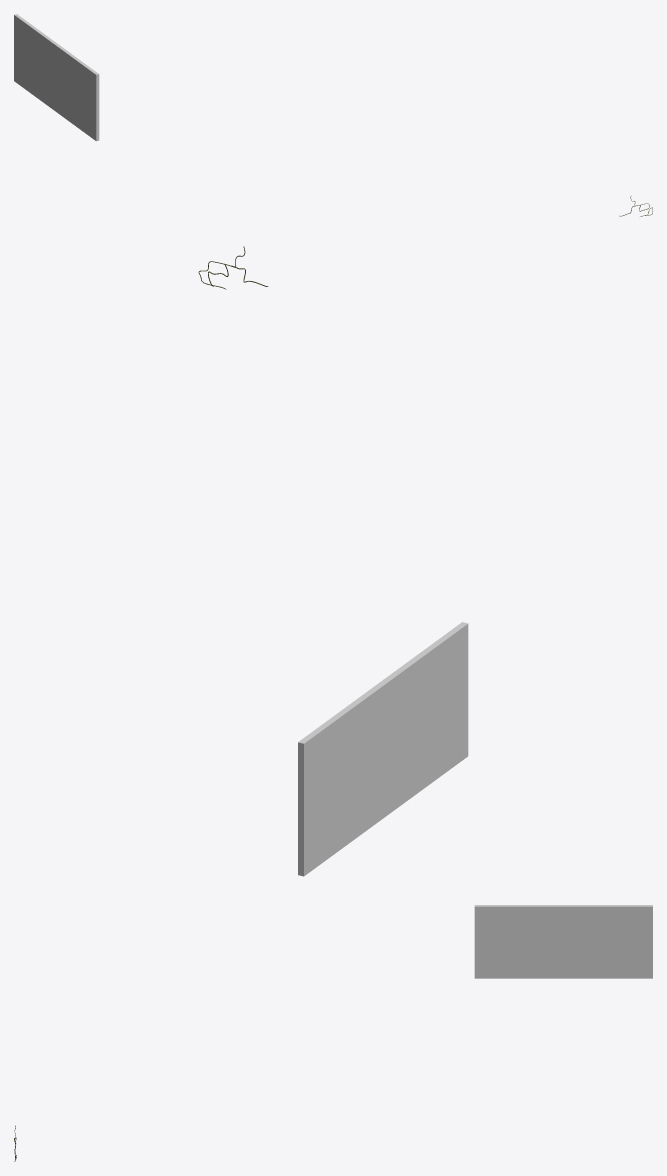
The model's file is vines.fbx.
The picture shows the model from 3 angles, top to bottom: view 1: azimuth 30°, elevation 25°; view 2: azimuth 150°, elevation 25°; view 3: azimuth 270°, elevation 25°; orthographic projection. The views are drawn at different scales.
Parts seen in each view (by area): view 1: Cube.1651; view 2: Cube.1651; view 3: Cube.1651.
Boxes of the visible parts, <box> form: Cube.1651: <box>14,14,99,141</box>; Cube.1651: <box>298,622,468,876</box>; Cube.1651: <box>474,905,652,978</box>.
Size of the model in its own units: 8429 by 1620 by 12430.
